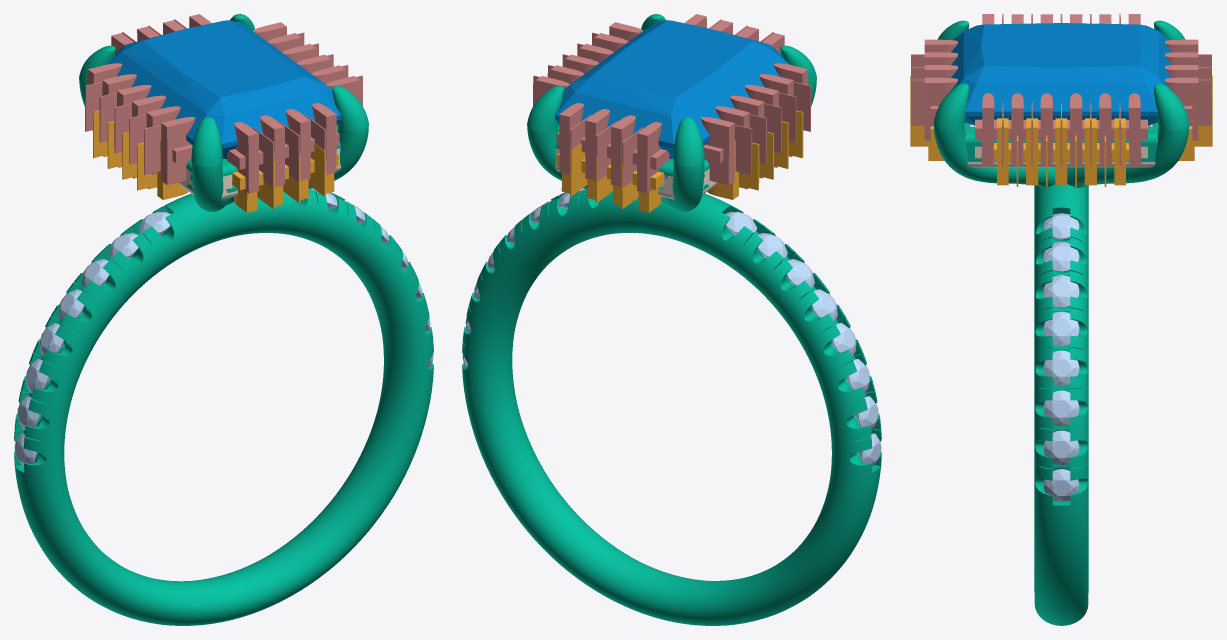
The picture shows the model from 3 angles, left to right: view 1: azimuth 30°, elevation 25°; view 2: azimuth 150°, elevation 25°; view 3: azimuth 270°, elevation 25°; orthographic projection.
Visible parts, largest first — view 1: VR557 30.8.25(front).3dm, Diamond_Radiant, Micro Pave Cut Channel Cutter (×13); view 2: VR557 30.8.25(front).3dm, Diamond_Radiant, Micro Pave Cut Channel Cutter (×13); view 3: VR557 30.8.25(front).3dm, Diamond_Radiant, Micro Pave Cut Channel Cutter (×17), Diamond_Round (×8), Channel Cutter (×2).
Part boxes in pixels (bbox=[...]): VR557 30.8.25(front).3dm: bbox=[14, 14, 433, 625]; Diamond_Radiant: bbox=[106, 20, 341, 158]; Micro Pave Cut Channel Cutter (×13): bbox=[85, 81, 336, 196]; VR557 30.8.25(front).3dm: bbox=[462, 14, 881, 625]; Diamond_Radiant: bbox=[555, 20, 790, 158]; Micro Pave Cut Channel Cutter (×13): bbox=[559, 82, 810, 196]; VR557 30.8.25(front).3dm: bbox=[933, 20, 1189, 625]; Diamond_Radiant: bbox=[948, 23, 1173, 125]; Micro Pave Cut Channel Cutter (×17): bbox=[911, 39, 1211, 185]; Diamond_Round (×8): bbox=[1043, 213, 1079, 501]; Channel Cutter (×2): bbox=[975, 119, 1147, 161].
Size of the model in its own units: 2.32 by 3.01 by 1.48.
